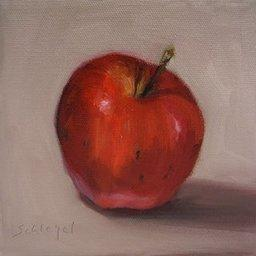apple: (54, 47, 207, 212)
